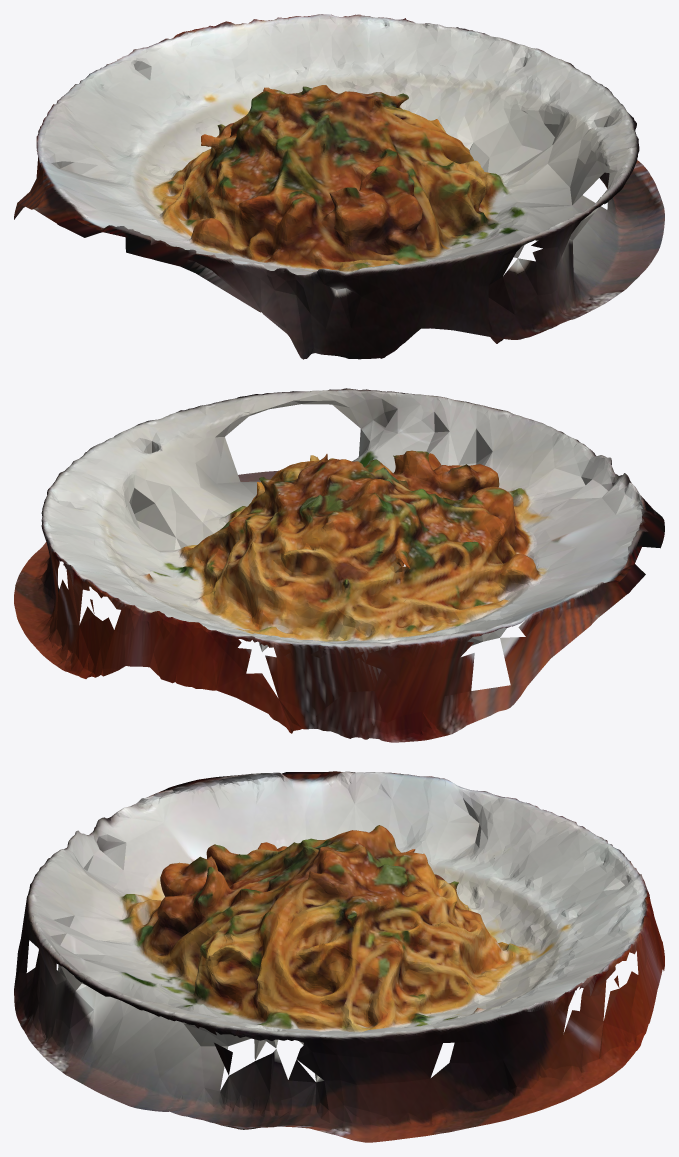
The model's file is pasta-fettuccine-ragu.glb.
3 views of the same model, one above another, from view 1: azimuth 30°, elevation 25°; view 2: azimuth 150°, elevation 25°; view 3: azimuth 270°, elevation 25° (orthographic). The views are drawn at different scales.
Visible parts, largest first — view 1: mesh; view 2: mesh; view 3: mesh.
Part boxes in pixels (x1=…): mesh: x1=14, y1=14, x2=664, y2=359; mesh: x1=14, y1=388, x2=664, y2=742; mesh: x1=14, y1=771, x2=664, y2=1142.
Size of the model in its own units: 0.26 by 0.0688 by 0.2479.
1 material, 1 textured.
